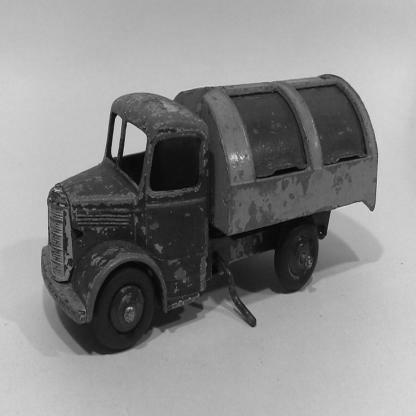truck: (28, 32, 381, 368)
